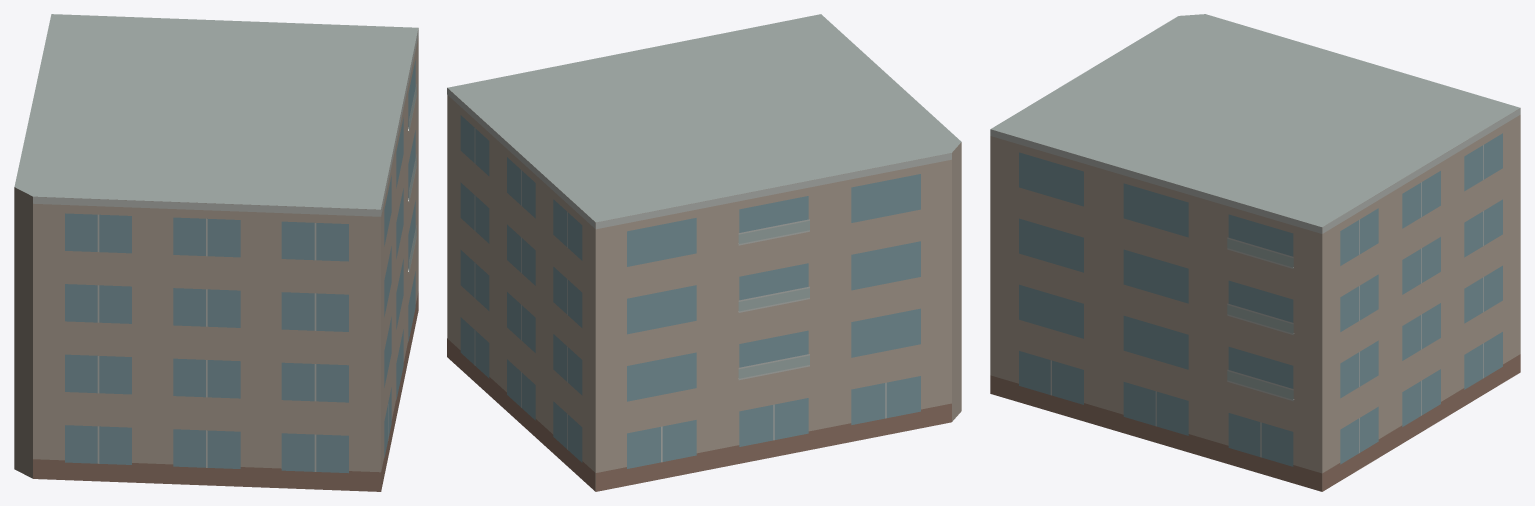
The model's file is survey-upis-32731731.glb.
3 views of the same model, side by side, from view 1: azimuth 30°, elevation 25°; view 2: azimuth 150°, elevation 25°; view 3: azimuth 270°, elevation 25° (orthographic). The views are drawn at different scales.
Visible parts, largest first — view 1: survey-upis-32731731.tmp; view 2: survey-upis-32731731.tmp; view 3: survey-upis-32731731.tmp.
Boxes of the visible parts, x1,y1,x2,y2 form: survey-upis-32731731.tmp: (14, 14, 418, 491); survey-upis-32731731.tmp: (447, 14, 961, 491); survey-upis-32731731.tmp: (990, 14, 1520, 491).
Bounding box in the file's own units: 16.61 × 9.6 × 17.45.
